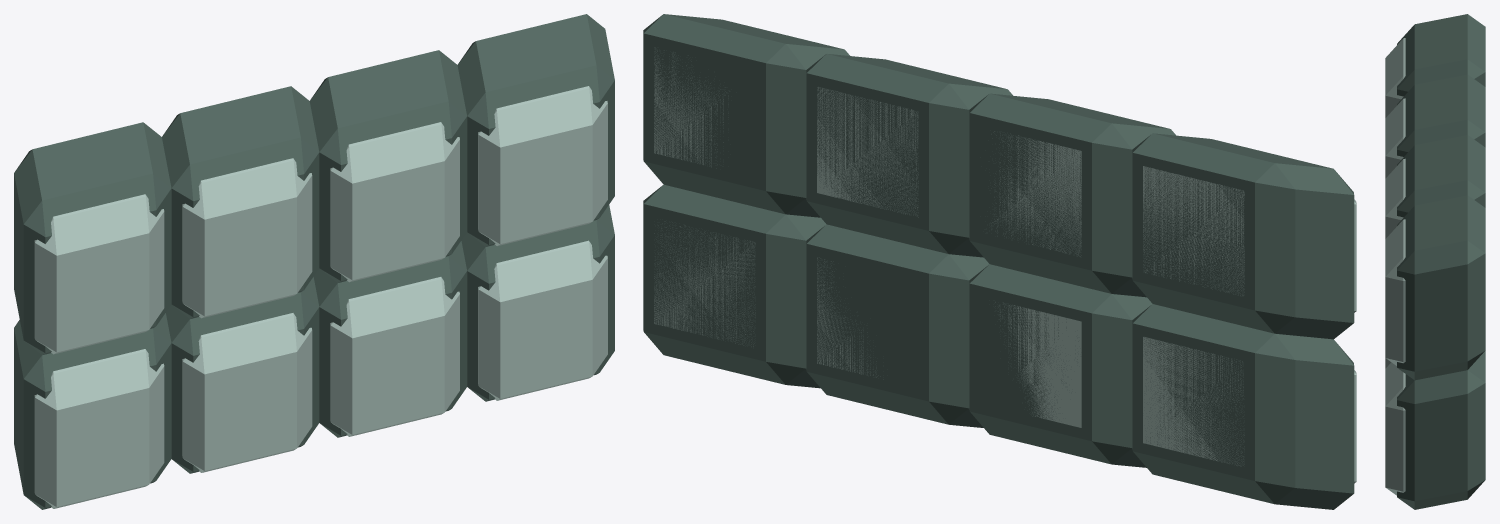
Rendered from Terrain_Block4x2.gltf.
3 views of the same model, side by side, from view 1: azimuth 30°, elevation 25°; view 2: azimuth 150°, elevation 25°; view 3: azimuth 270°, elevation 25° (orthographic). The views are drawn at different scales.
Visible parts, largest first — view 1: Terrain_Block4x2_baked; view 2: Terrain_Block4x2_baked; view 3: Terrain_Block4x2_baked.
Boxes of the visible parts, x1,y1,x2,y2 form: Terrain_Block4x2_baked: [14, 14, 614, 509]; Terrain_Block4x2_baked: [643, 14, 1356, 509]; Terrain_Block4x2_baked: [1385, 14, 1485, 509].
Bounding box in the file's own units: 4.15 × 2.15 × 0.7.
